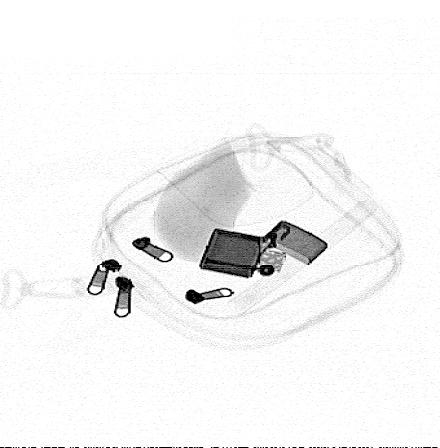Lighter: (199, 219, 329, 279)
